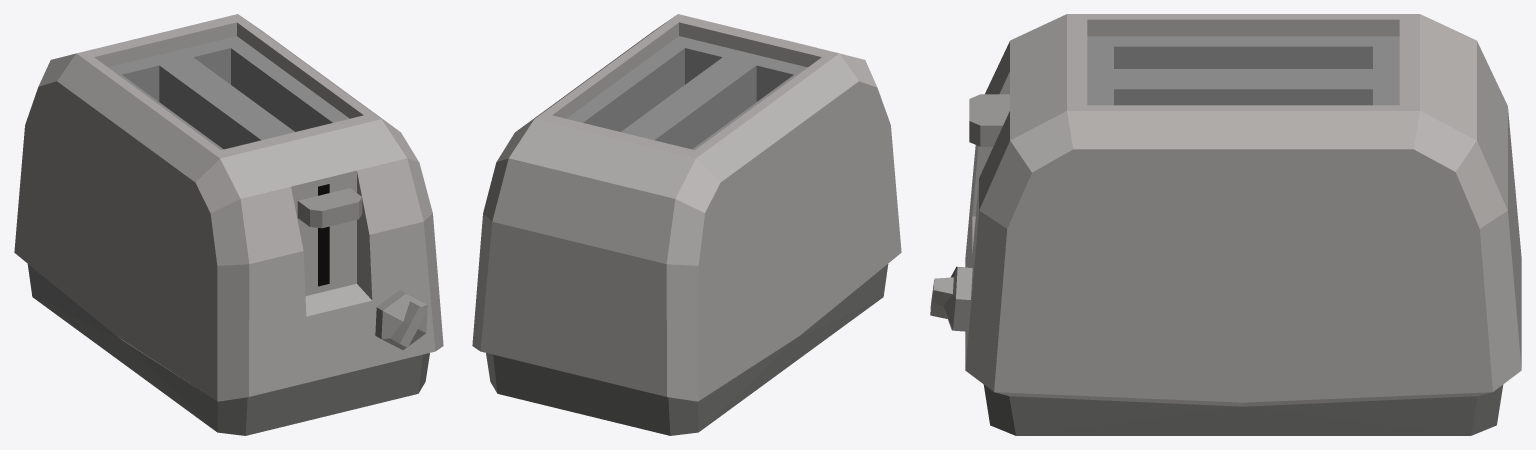
File: SM_Prop_Toaster_01.glb
3 views of the same model, side by side, from view 1: azimuth 30°, elevation 25°; view 2: azimuth 150°, elevation 25°; view 3: azimuth 270°, elevation 25° (orthographic). The views are drawn at different scales.
Parts seen in each view (by area): view 1: SM_Prop_Toaster_01; view 2: SM_Prop_Toaster_01; view 3: SM_Prop_Toaster_01.
Part boxes in pixels (x1=…): SM_Prop_Toaster_01: x1=14, y1=14, x2=443, y2=435; SM_Prop_Toaster_01: x1=472, y1=14, x2=901, y2=435; SM_Prop_Toaster_01: x1=930, y1=14, x2=1521, y2=435.
Size of the model in its own units: 0.2144 by 0.2292 by 0.3949.
Materials: 1 (1 with a texture image).
